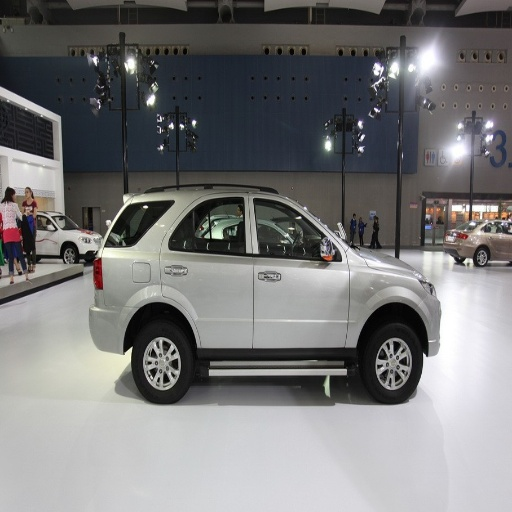back_right_door: (160, 191, 253, 356)
